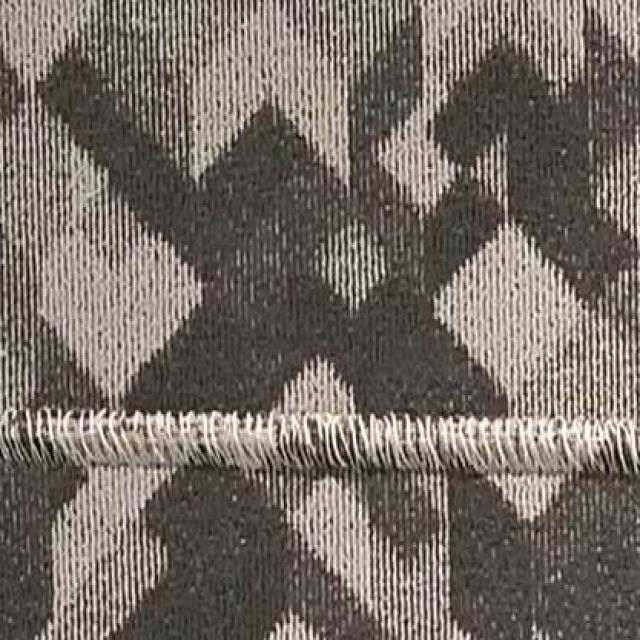gray stitch: (1, 401, 640, 483)
